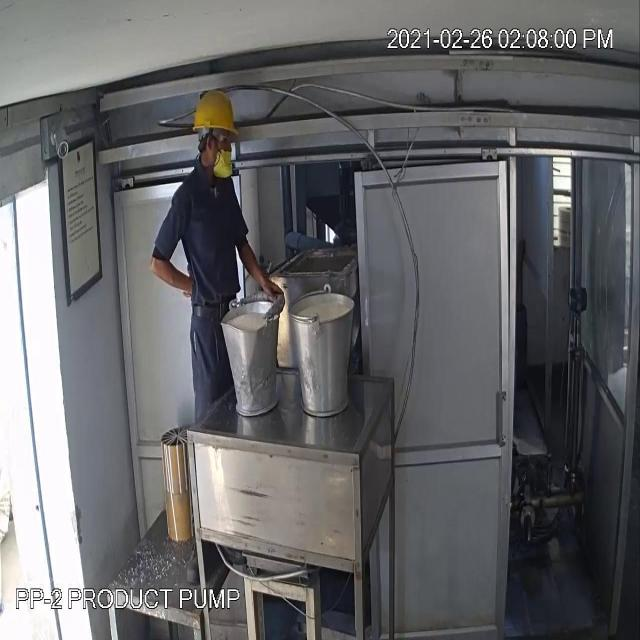helmet: (190, 82, 244, 146)
